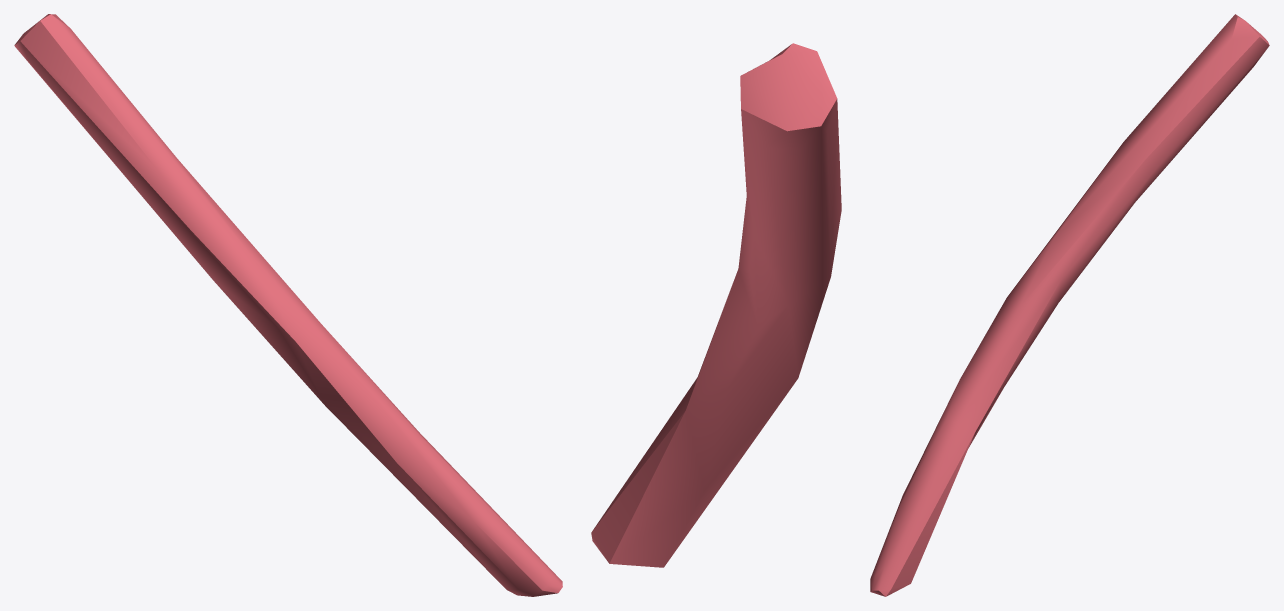
The model's file is fma68193_fj6057.glb.
3 renders of one model, left to right at view 1: azimuth 30°, elevation 25°; view 2: azimuth 150°, elevation 25°; view 3: azimuth 270°, elevation 25°, orthographic. The views are drawn at different scales.
Visible parts, largest first — view 1: FMA68193_FJ6057; view 2: FMA68193_FJ6057; view 3: FMA68193_FJ6057.
Part boxes in pixels (x1=…): FMA68193_FJ6057: x1=14, y1=14, x2=562, y2=596; FMA68193_FJ6057: x1=591, y1=43, x2=841, y2=567; FMA68193_FJ6057: x1=870, y1=14, x2=1269, y2=596.
Bounding box in the file's own units: 0.018 × 0.0256 × 0.0207.
